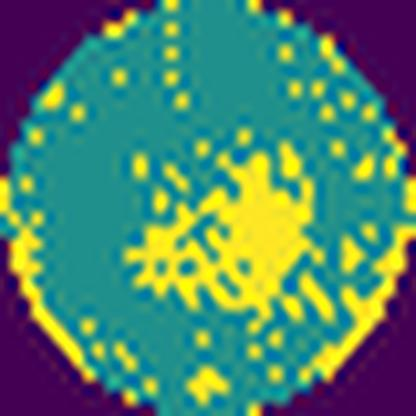Loc: (119, 136, 322, 323)
